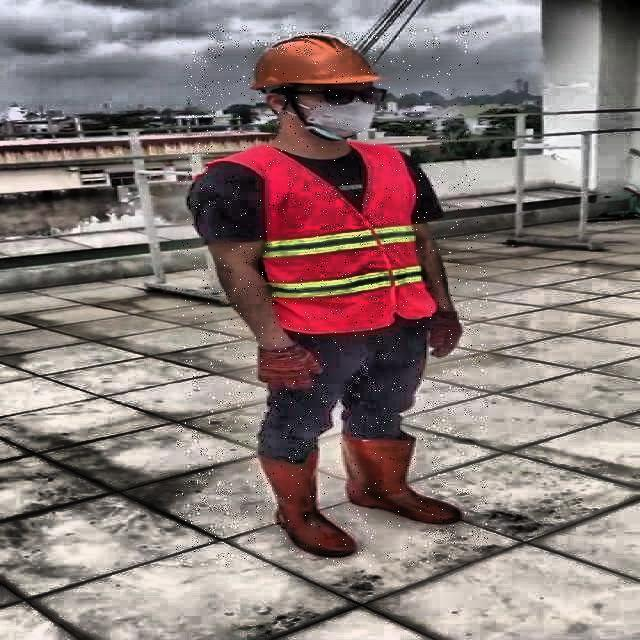safety_helmet: (241, 28, 386, 90)
safety_jacket: (262, 143, 438, 331)
